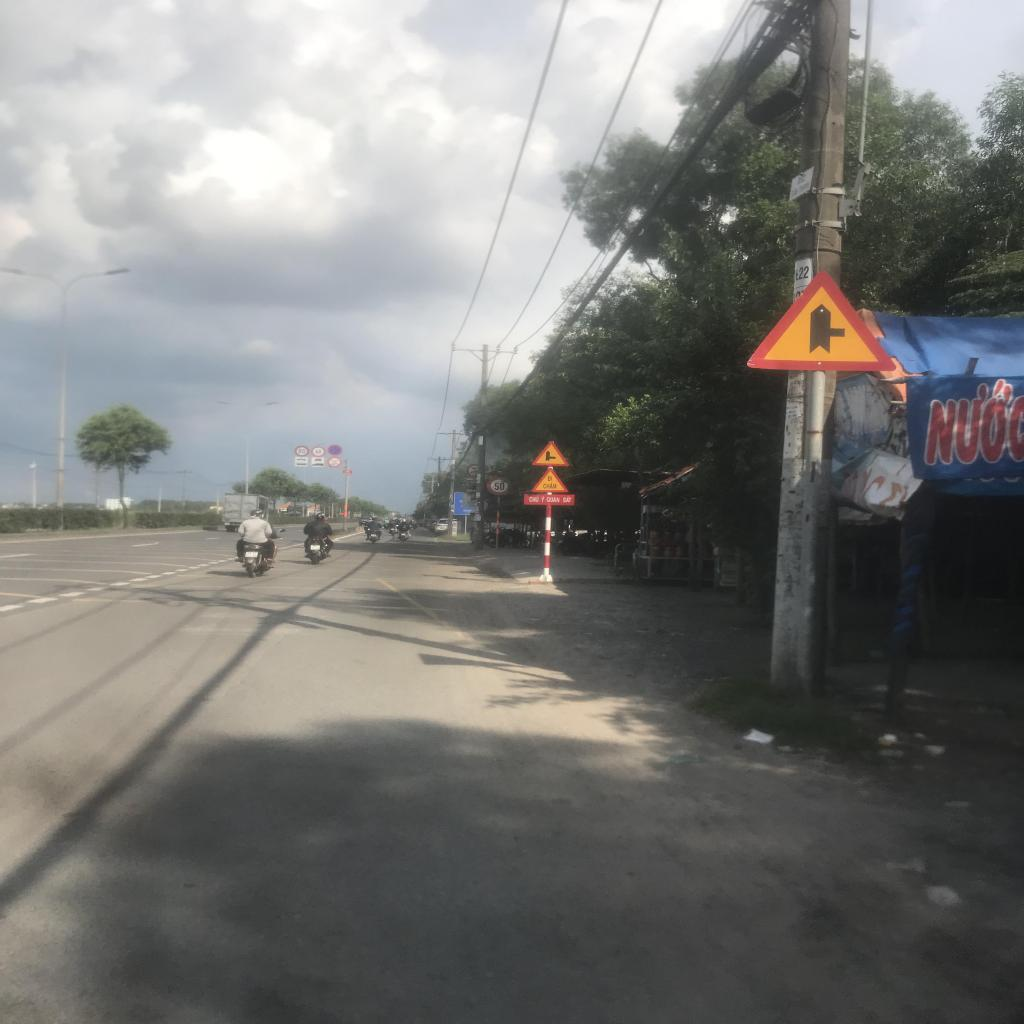cam_dung_xe_va_do_xe: (328, 444, 342, 456)
cam_xe_2_banh_va_xe_3_banh_co_dong_co: (326, 456, 343, 468)
di_cham: (530, 467, 570, 492)
giao_nhau_voi_duong_khong_uu_tien: (531, 440, 571, 466)
khac: (295, 457, 308, 462), (311, 462, 324, 467), (311, 458, 325, 462), (296, 462, 308, 466)
toc_do_toi_da_50: (486, 476, 512, 496)
toc_do_toi_da_60: (310, 446, 327, 457)
toc_do_toi_da_80: (294, 446, 310, 457)
